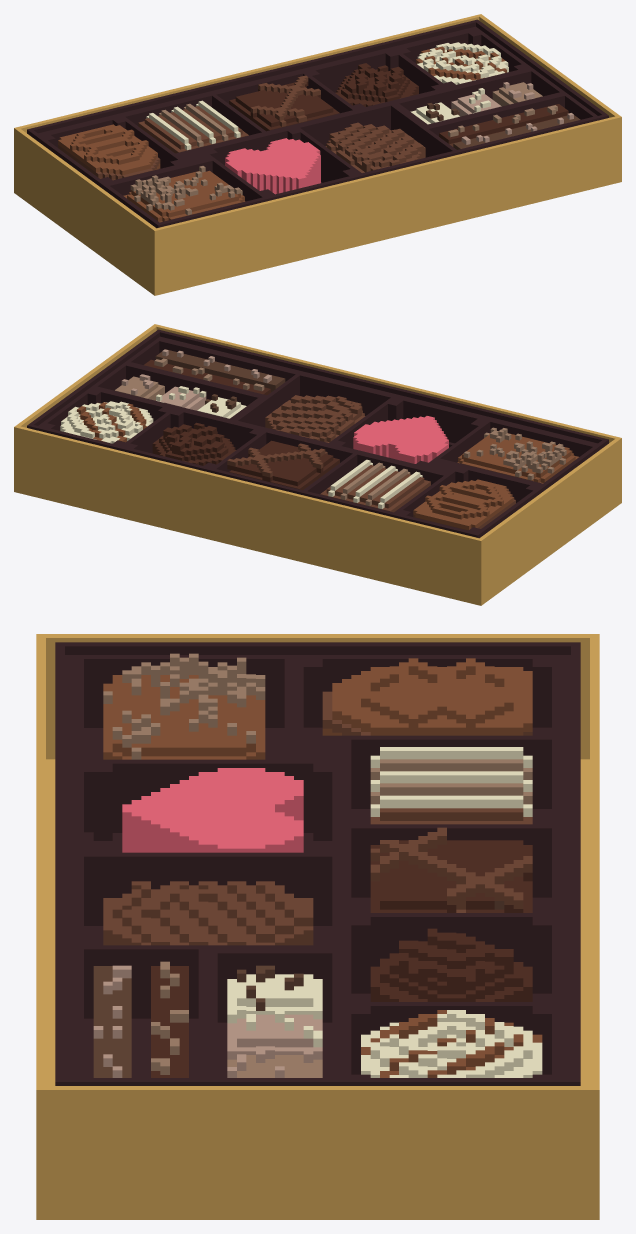
File: chocolate box.fbx
3 renders of one model, top to bottom at view 1: azimuth 30°, elevation 25°; view 2: azimuth 150°, elevation 25°; view 3: azimuth 270°, elevation 25°, orthographic. The views are drawn at different scales.
Visible parts, largest first — view 1: box; view 2: box; view 3: box.
Part boxes in pixels (<box>): box: <box>14,14,621,295</box>; box: <box>14,324,621,605</box>; box: <box>36,634,599,1219</box>.
Bounding box in the file's own units: 113 × 16 × 59.
1 material, 1 textured.
